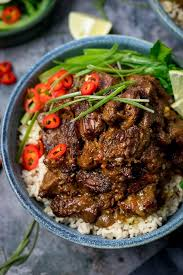rendang: (12, 40, 183, 230)
